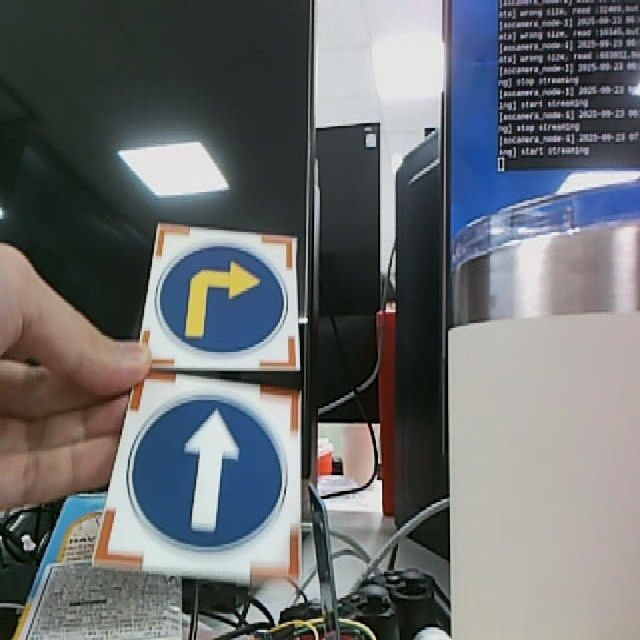right: (137, 224, 300, 369)
straight: (98, 372, 304, 587)
